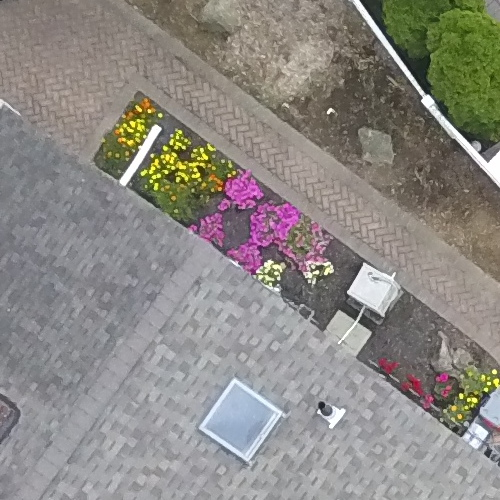gutter: (110, 118, 173, 197)
larvae: (108, 116, 171, 195)
